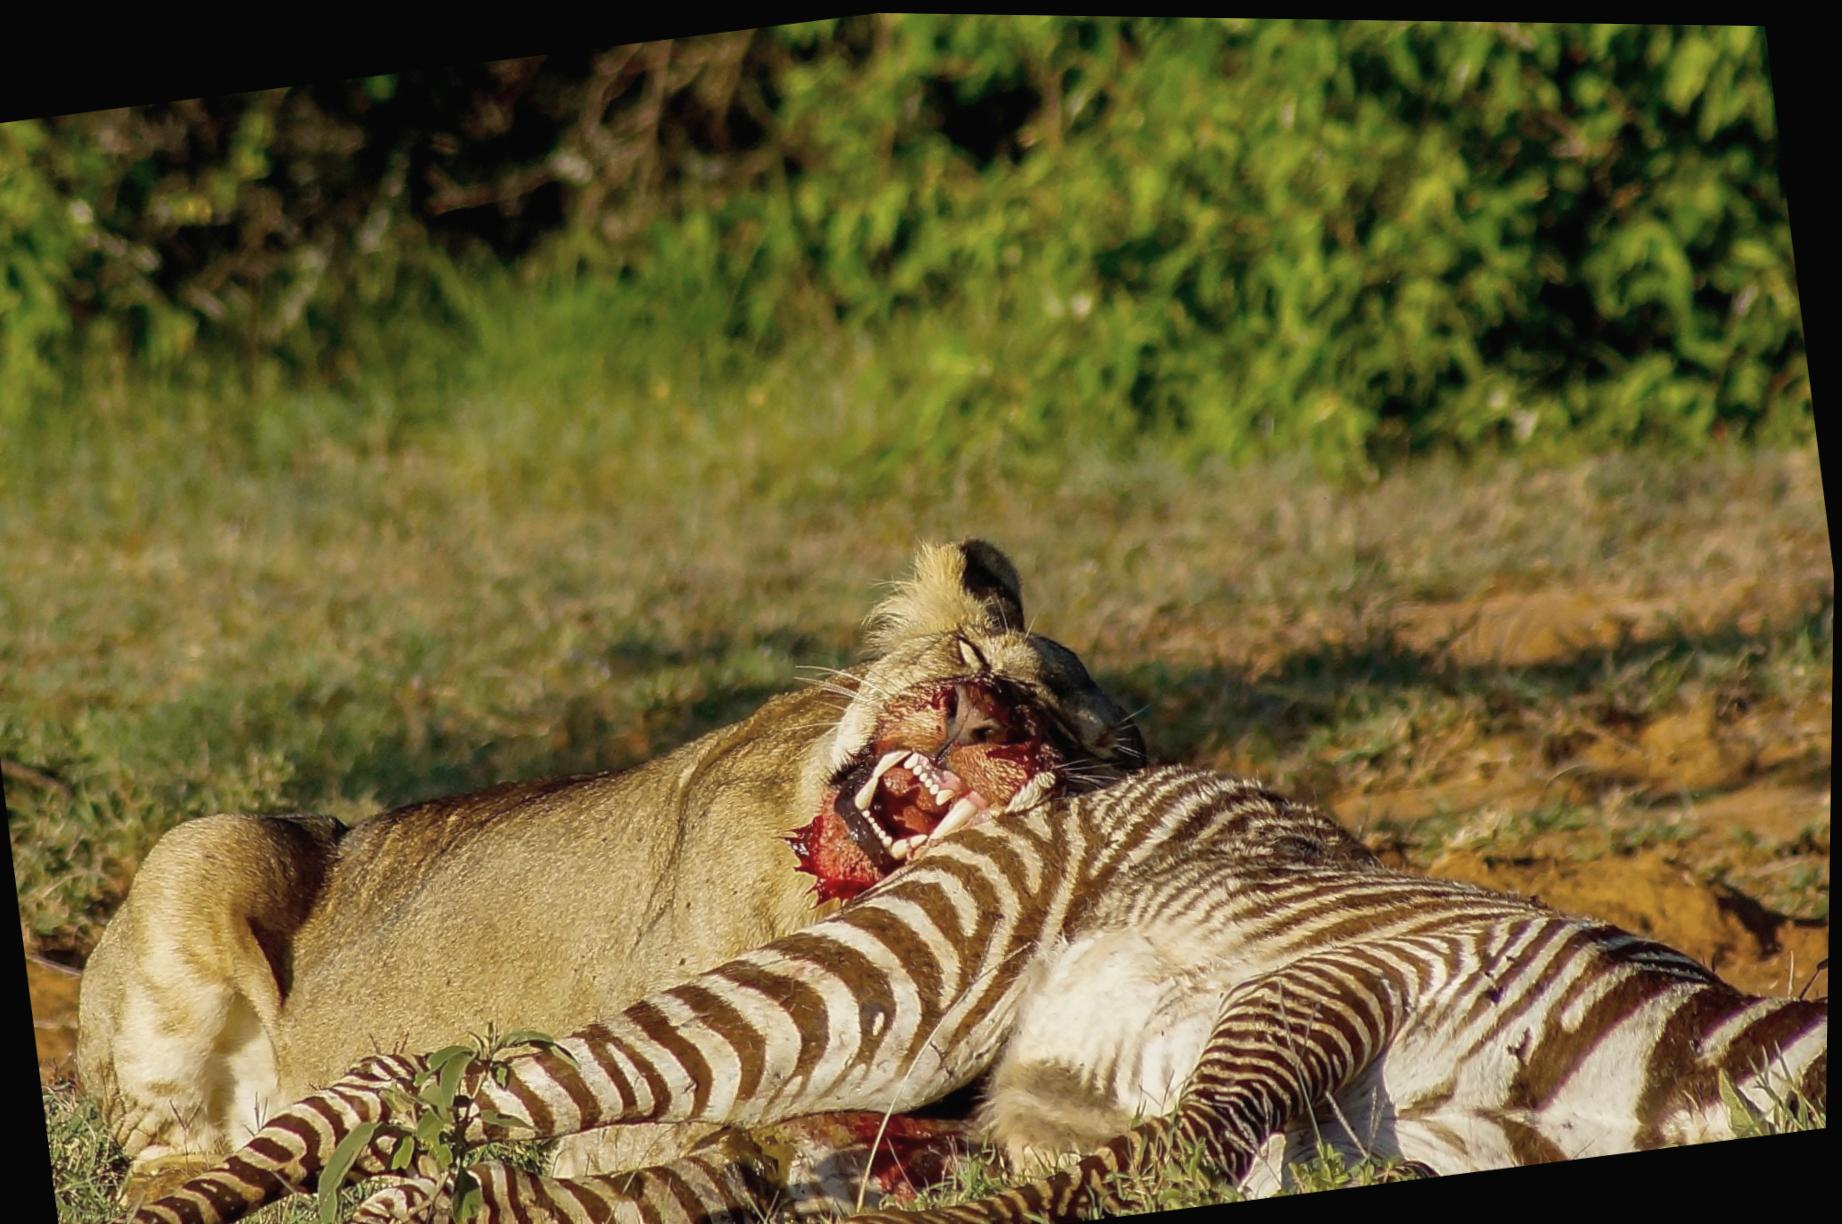Fire: (845, 675, 1065, 805), (815, 1081, 986, 1198), (797, 784, 886, 899), (870, 760, 944, 836)
